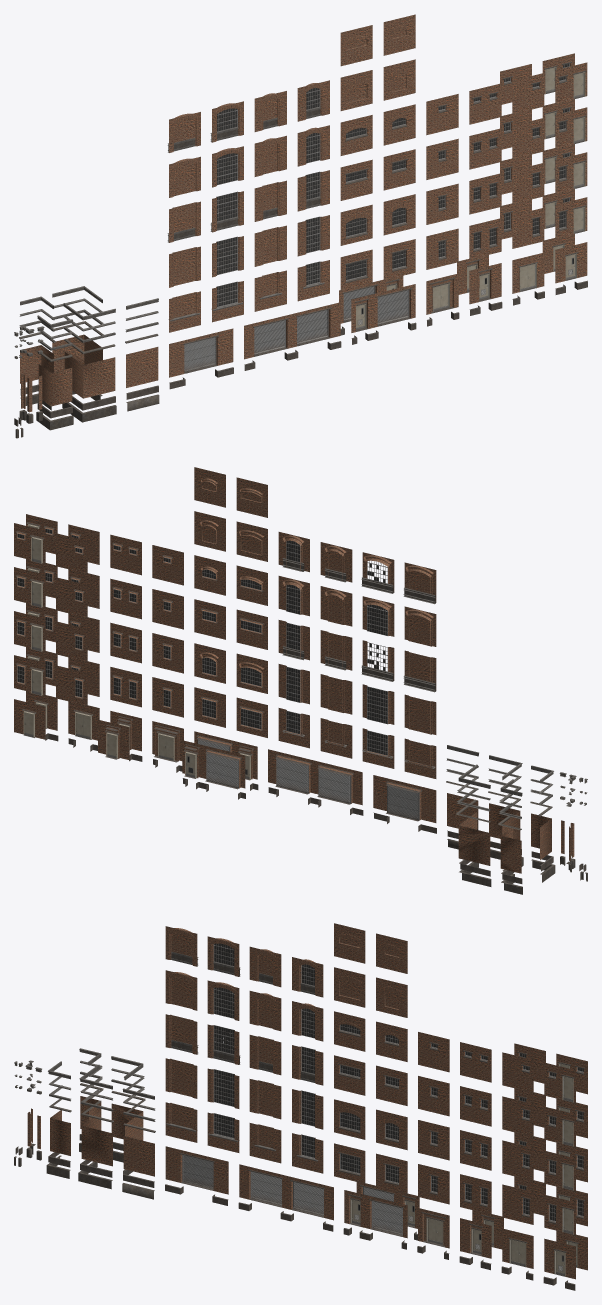
File: modular_factory_facade.gltf
The picture shows the model from 3 angles, top to bottom: view 1: azimuth 30°, elevation 25°; view 2: azimuth 150°, elevation 25°; view 3: azimuth 330°, elevation 25°; orthographic projection.
Visible parts, largest first — view 1: door_garage_double_01, wall_standard_corner_large_01, wall_door_garage_double_01, door_garage_door_01, wall_door_garage_centered_01, wall_window_centered_medium_05, wall_window_tall_small_09, wall_standard_standard_01, wall_window_centered_large_05, wall_window_centered_medium_06, wall_window_tall_small_07, wall_window_centered_large_06 (+57 smaller); view 2: door_garage_double_01, door_garage_door_02, wall_door_garage_double_01, wall_door_garage_centered_01, wall_standard_corner_large_02, wall_window_tall_large_09, wall_window_tall_small_09, wall_window_tall_large_07, wall_window_tall_small_07, wall_window_tall_small_06, wall_window_tall_large_06, wall_window_centered_medium_06 (+62 smaller); view 3: door_garage_double_01, wall_door_garage_double_01, door_garage_door_01, wall_door_garage_centered_01, wall_standard_corner_large_01, wall_window_tall_large_09, wall_window_tall_large_07, wall_window_tall_small_07, wall_window_tall_small_09, wall_window_tall_small_06, wall_window_centered_large_05, wall_window_tall_large_06 (+67 smaller).
Part boxes in pixels (x1,y1,x2,y2): door_garage_double_01: [253, 307, 331, 356]; wall_standard_corner_large_01: [64, 352, 115, 398]; wall_door_garage_double_01: [244, 302, 340, 359]; door_garage_door_01: [355, 288, 412, 331]; wall_door_garage_centered_01: [169, 328, 233, 377]; wall_window_centered_medium_05: [383, 59, 415, 100]; wall_window_tall_small_09: [254, 135, 286, 176]; wall_standard_standard_01: [126, 347, 158, 387]; wall_window_centered_large_05: [340, 70, 372, 110]; wall_window_centered_medium_06: [383, 14, 415, 55]; wall_window_tall_small_07: [254, 225, 286, 266]; wall_window_centered_large_06: [340, 25, 372, 66]; door_garage_double_01: [275, 754, 353, 804]; door_garage_door_02: [184, 744, 241, 789]; wall_door_garage_double_01: [268, 749, 362, 805]; wall_door_garage_centered_01: [373, 775, 436, 822]; wall_standard_corner_large_02: [458, 812, 490, 865]; wall_window_tall_large_09: [404, 606, 436, 646]; wall_window_tall_small_09: [320, 586, 352, 626]; wall_window_tall_large_07: [404, 694, 436, 734]; wall_window_tall_small_07: [320, 674, 352, 714]; wall_window_tall_small_06: [320, 718, 352, 758]; wall_window_tall_large_06: [404, 738, 436, 778]; wall_window_centered_medium_06: [194, 467, 225, 507]; door_garage_double_01: [248, 1169, 324, 1217]; wall_door_garage_double_01: [239, 1164, 333, 1220]; door_garage_door_01: [348, 1194, 403, 1236]; wall_door_garage_centered_01: [165, 1146, 228, 1194]; wall_standard_corner_large_01: [81, 1112, 112, 1166]; wall_window_tall_large_09: [165, 970, 197, 1010]; wall_window_tall_large_07: [165, 1058, 197, 1098]; wall_window_tall_small_07: [249, 1079, 281, 1119]; wall_window_tall_small_09: [249, 991, 281, 1031]; wall_window_tall_small_06: [249, 1123, 281, 1163]; wall_window_centered_large_05: [334, 967, 365, 1007]; wall_window_tall_large_06: [165, 1102, 197, 1142].
Bounding box in the file's own units: 53.33 × 29 × 5.36.
Materials: 6 (6 with a texture image).
